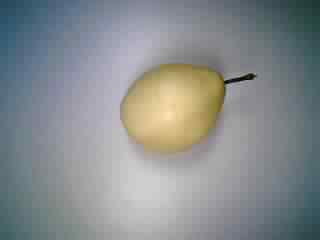pear: (111, 49, 262, 160)
